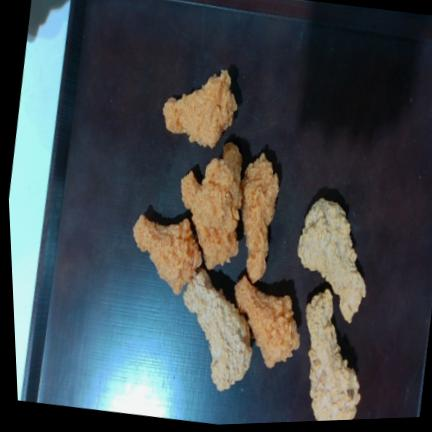chicken: (236, 153, 299, 367), (298, 198, 365, 322), (184, 269, 252, 390), (306, 290, 360, 421), (133, 215, 201, 294)
